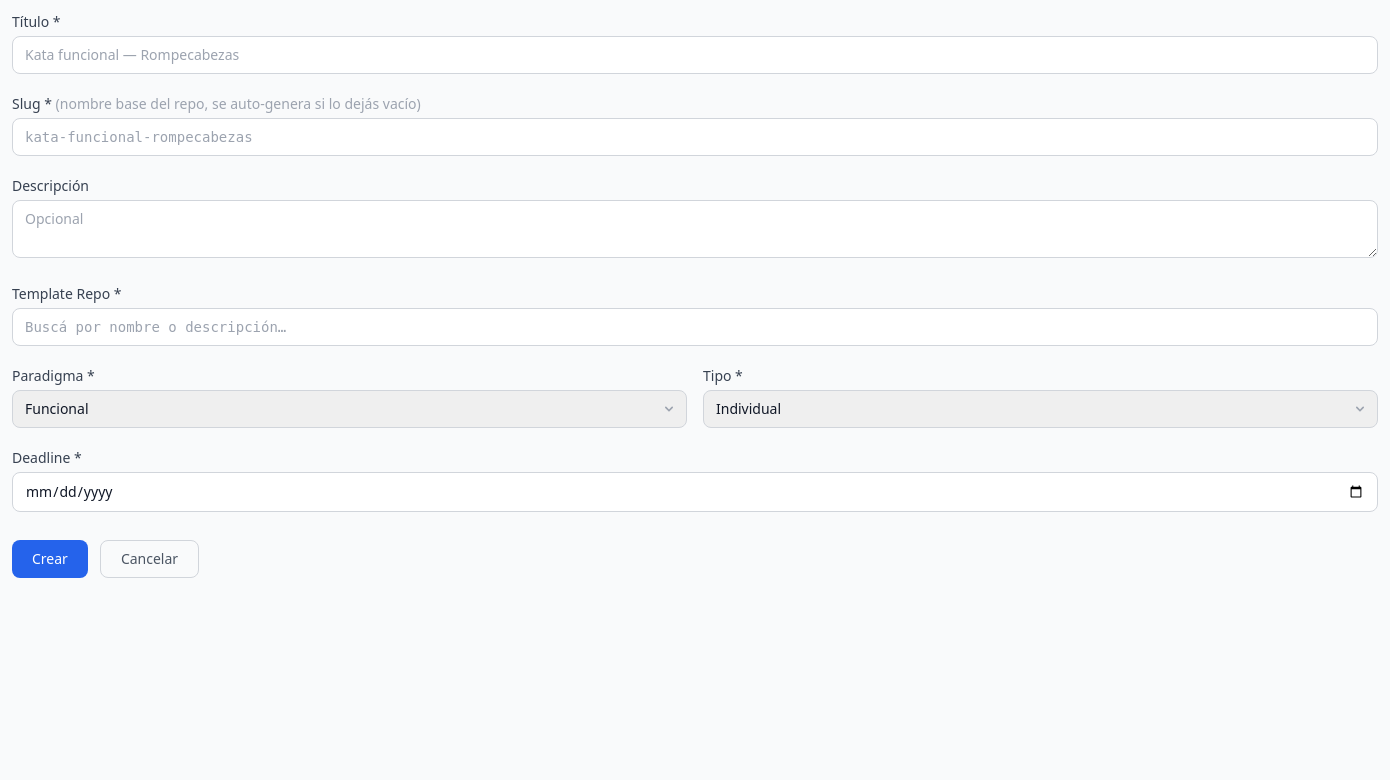
Test: AssignmentForm › combobox de templates › muestra los templates al hacer focus en el combobox
Click the field with placeholder "Buscá por nombre o descripción…": {"x": 695, "y": 327} 12,308 -> 1378,346
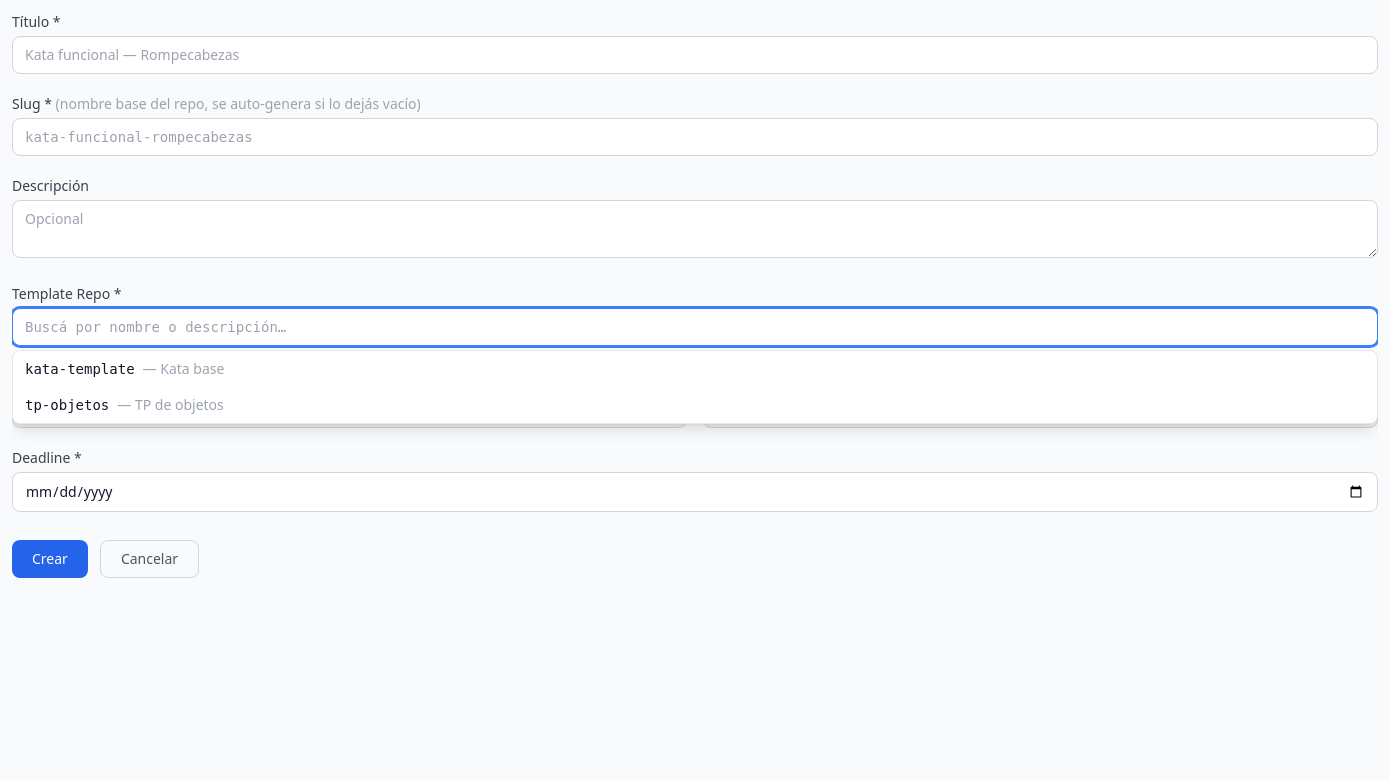
Expected: the text "kata-template" is shown, 25,361 -> 135,377
Expected: the text "tp-objetos" is shown, 25,397 -> 109,413
